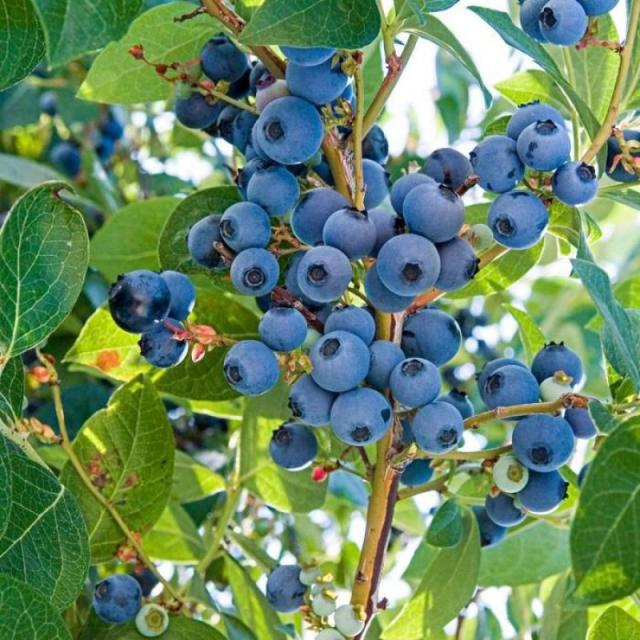BlueBerry - v1: (255, 96, 330, 169), (324, 380, 397, 453), (372, 228, 446, 298), (106, 266, 177, 338), (508, 410, 582, 476), (487, 185, 552, 254), (306, 330, 376, 394), (283, 52, 360, 110), (467, 127, 529, 198), (291, 182, 354, 250), (130, 314, 196, 378), (402, 180, 466, 245), (221, 334, 283, 401), (399, 308, 466, 368), (292, 244, 356, 306), (409, 396, 468, 461), (384, 352, 446, 411), (264, 414, 326, 473), (89, 567, 147, 629), (527, 335, 589, 392), (321, 204, 381, 262), (514, 117, 576, 172), (218, 202, 278, 258), (482, 361, 542, 416), (194, 31, 250, 87), (432, 236, 483, 297), (257, 300, 313, 355), (226, 245, 282, 299), (418, 142, 479, 191), (532, 0, 592, 49), (516, 466, 571, 519), (288, 372, 346, 422), (503, 98, 570, 140), (549, 158, 602, 210), (170, 80, 221, 134), (247, 166, 302, 216), (153, 267, 199, 326), (353, 152, 396, 215), (466, 500, 512, 558), (263, 559, 310, 615), (599, 124, 640, 187), (365, 337, 410, 393), (484, 448, 534, 497), (190, 213, 232, 269), (325, 304, 378, 348), (366, 200, 412, 250), (386, 168, 440, 209), (482, 490, 532, 530), (398, 458, 447, 497), (133, 600, 179, 640), (360, 121, 394, 172), (330, 598, 372, 638), (567, 401, 603, 446), (217, 102, 251, 148), (306, 588, 340, 622), (511, 2, 543, 38), (536, 372, 574, 400), (567, 0, 624, 18)
